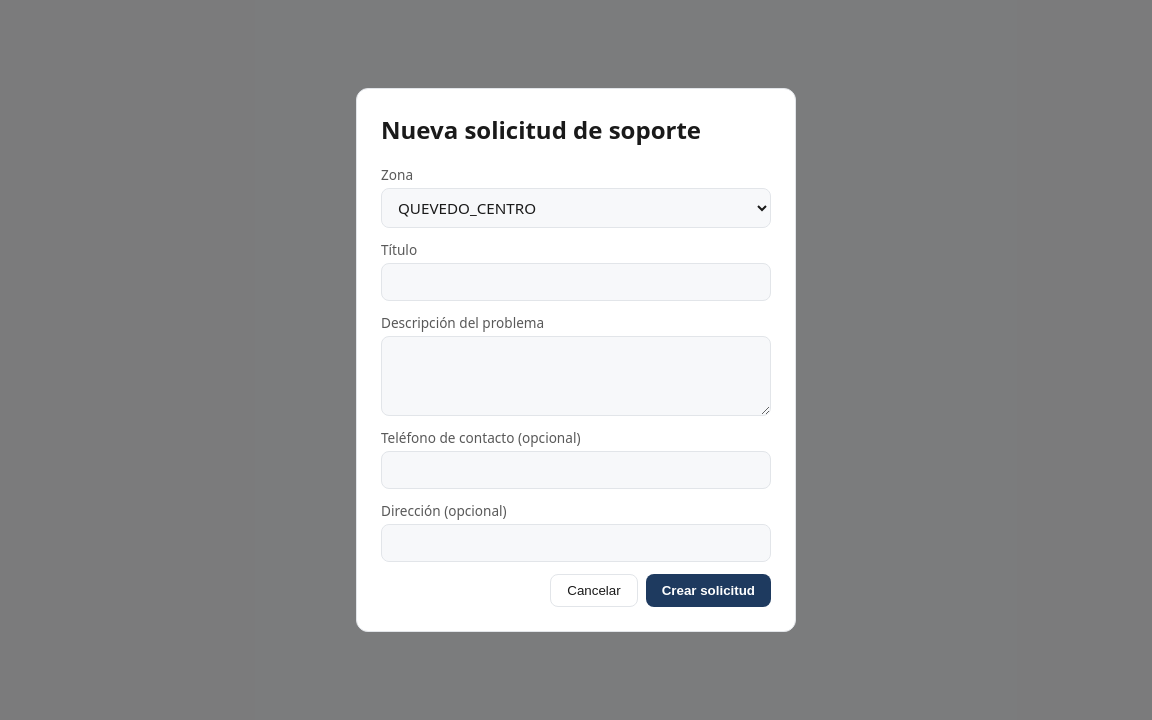
it: CreateTicketModal › muestra un error si falta el titulo o la descripcion
The image size is (1152, 720).
What coordinates should you click on to do the following:
click the button "Crear solicitud"
I would click on:
 (708, 591)
Its box is [646, 574, 771, 608].
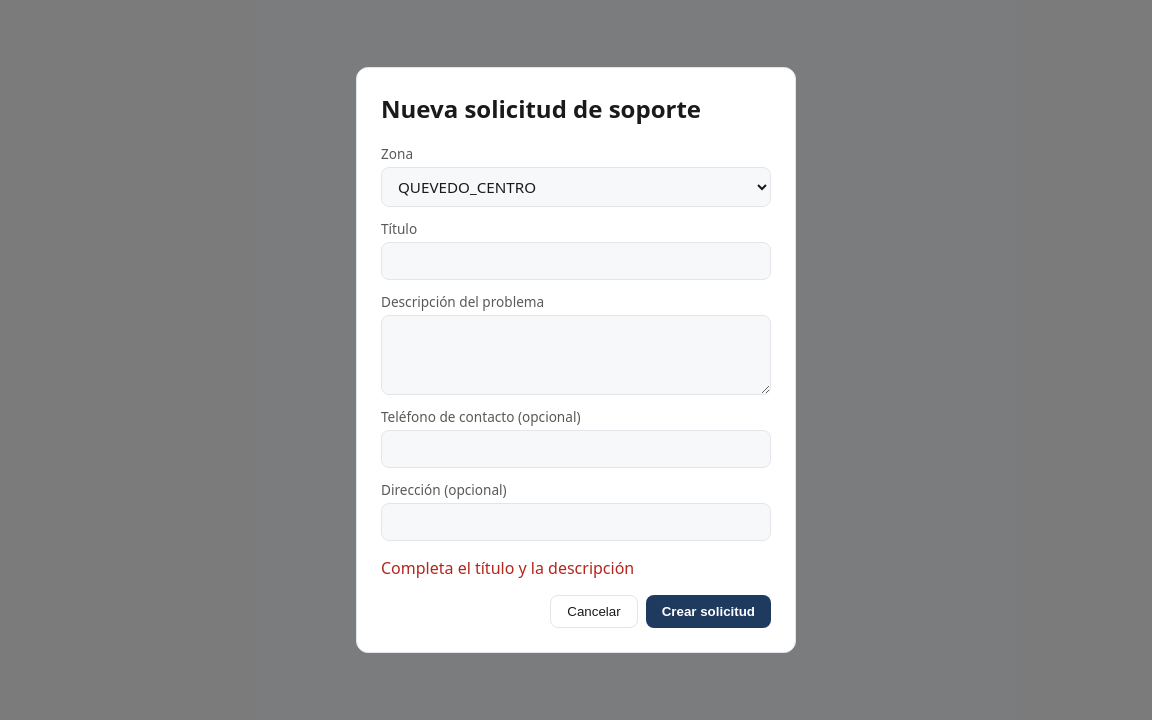
expect the text "Completa el título y la descripción" is shown: met, box [381, 558, 634, 580]
